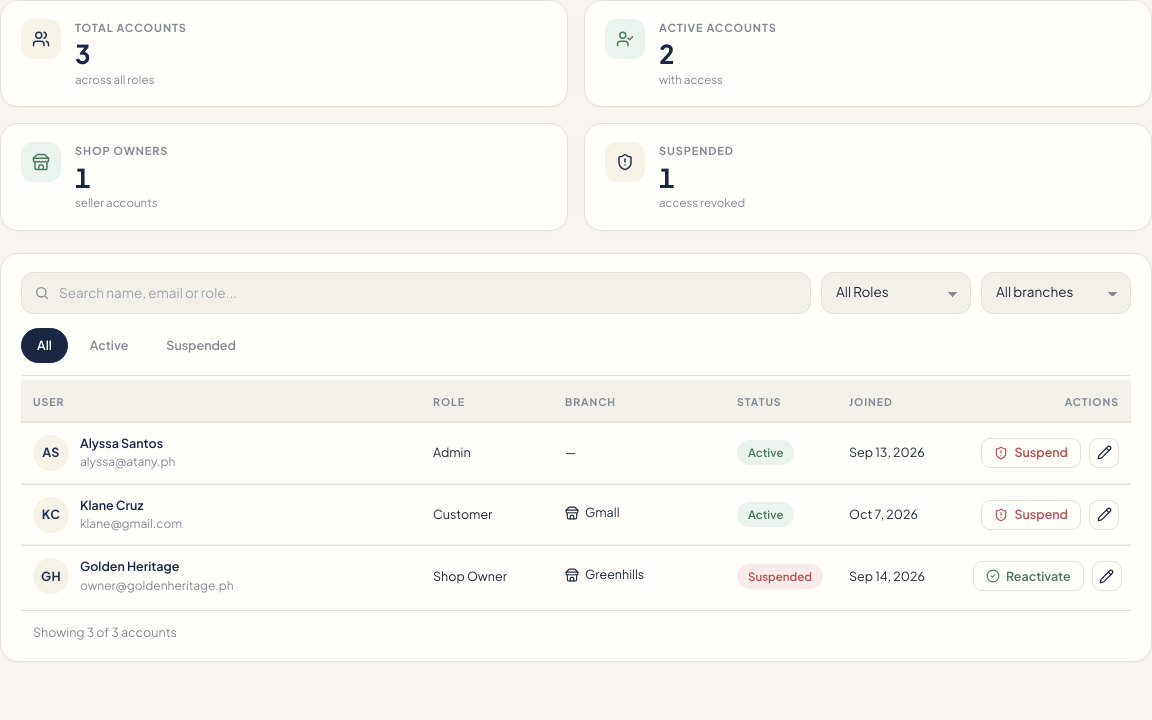
it: edit › shows the server error inside the modal instead of closing it
Expected: the text "Klane Cruz" is shown, left=80, top=496, right=143, bottom=512
Click the button named "edit klane cruz" at (1104, 514), box left=1089, top=500, right=1119, bottom=530
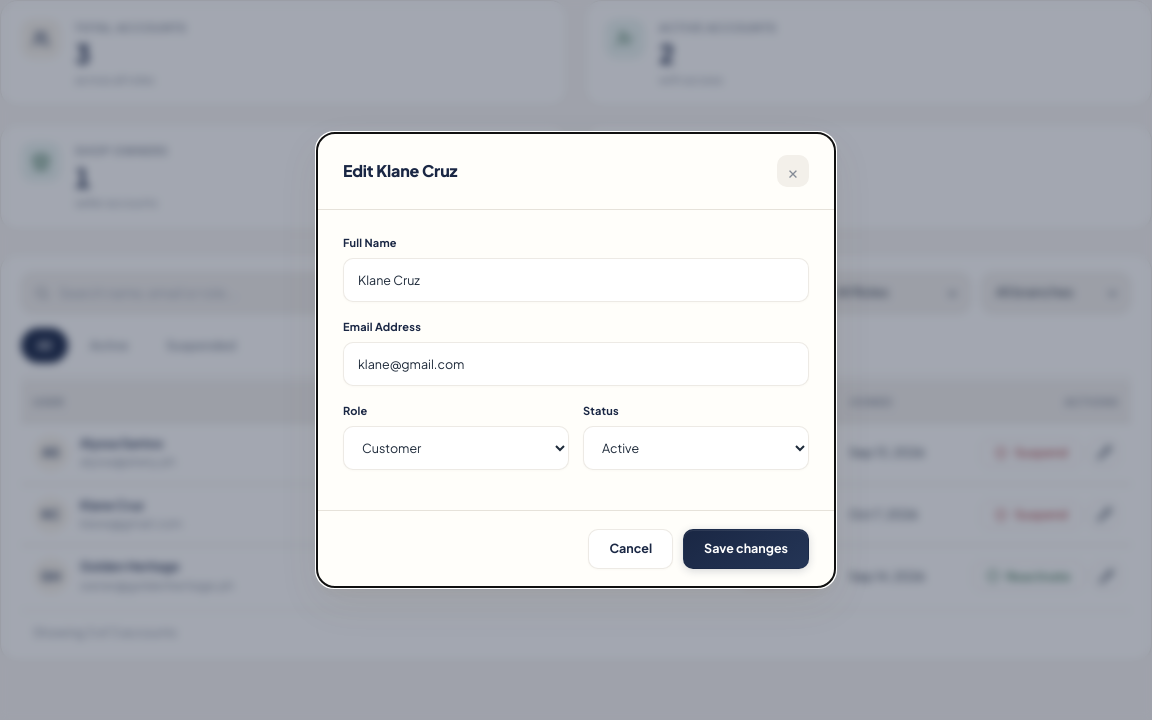
Click the button "Save changes" at (746, 549), box left=683, top=529, right=809, bottom=569
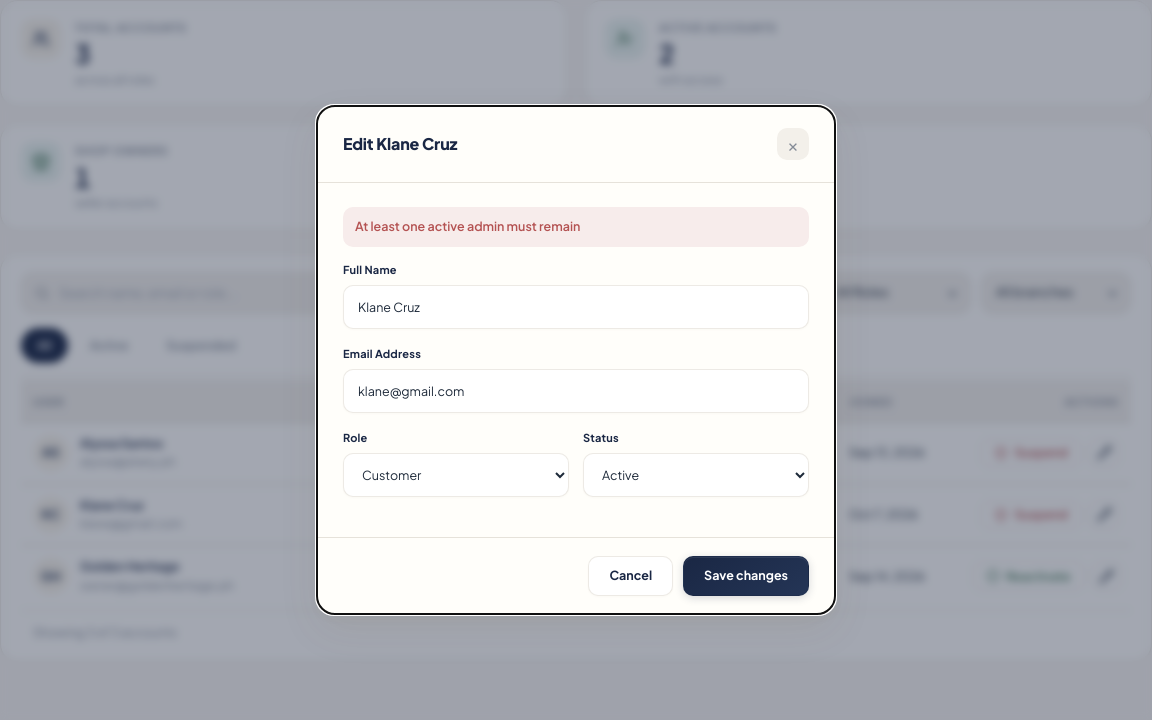
Now the message shows "active admin must remain", box left=355, top=218, right=580, bottom=234
